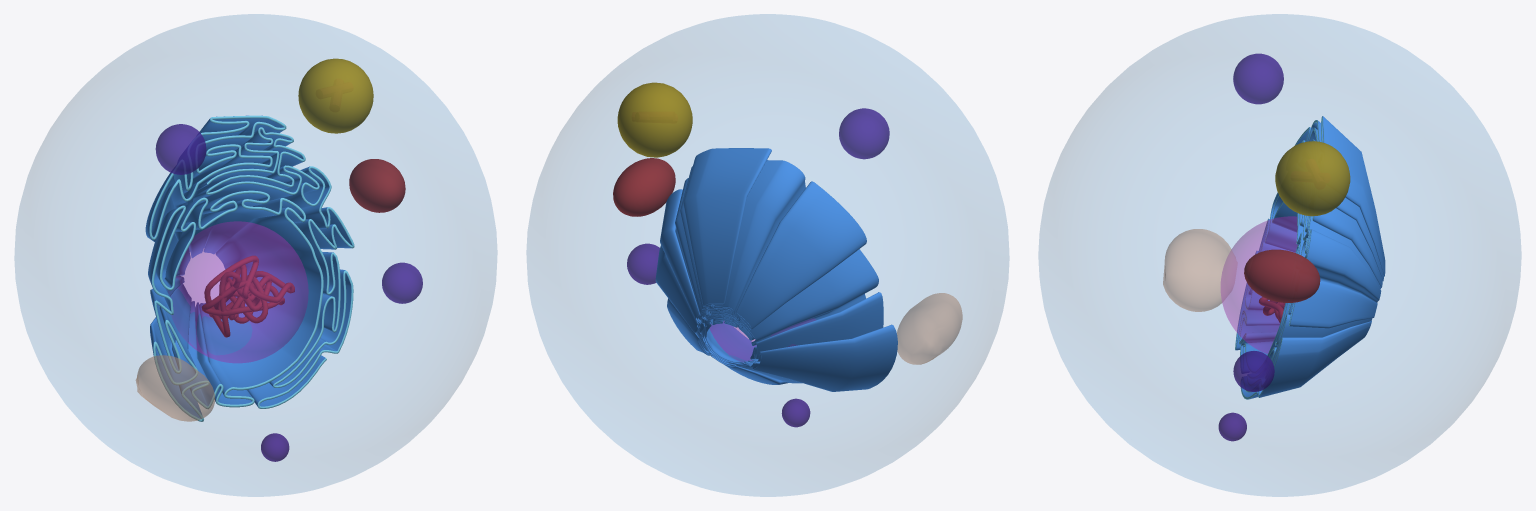
The model's file is Interfase-1.glb.
3 views of the same model, side by side, from view 1: azimuth 30°, elevation 25°; view 2: azimuth 150°, elevation 25°; view 3: azimuth 270°, elevation 25° (orthographic).
Visible parts, largest first — view 1: Esfera exterior, BézierCurve.007, Esfera interior, Sphere.003, Sphere.004, Sphere.005, espaguetti.001, Sphere, Sphere.006, Sphere.007, espaguetti.000, Sphere.008; view 2: Esfera exterior, BézierCurve.007, Sphere.003, Sphere.004, Sphere.005, Sphere, Sphere.006, Esfera interior, Sphere.007, Sphere.008; view 3: Esfera exterior, BézierCurve.007, Esfera interior, Sphere.005, Sphere.003, Sphere.004, Sphere, Sphere.006, Sphere.007, Sphere.008.
Boxes of the visible parts, bbox=[...] form: Esfera exterior: bbox=[14, 14, 497, 496]; BézierCurve.007: bbox=[145, 115, 354, 421]; Esfera interior: bbox=[168, 221, 308, 362]; Sphere.003: bbox=[298, 58, 373, 133]; Sphere.004: bbox=[299, 59, 372, 132]; Sphere.005: bbox=[135, 355, 215, 421]; espaguetti.001: bbox=[202, 255, 294, 337]; Sphere: bbox=[349, 159, 405, 212]; Sphere.006: bbox=[155, 124, 206, 174]; Sphere.007: bbox=[382, 262, 422, 303]; espaguetti.000: bbox=[218, 265, 271, 323]; Sphere.008: bbox=[261, 433, 289, 461]; Esfera exterior: bbox=[526, 14, 1009, 496]; BézierCurve.007: bbox=[655, 148, 897, 391]; Sphere.003: bbox=[617, 82, 692, 157]; Sphere.004: bbox=[618, 83, 691, 156]; Sphere.005: bbox=[897, 293, 962, 364]; Sphere: bbox=[613, 158, 675, 216]; Sphere.006: bbox=[839, 108, 889, 159]; Esfera interior: bbox=[709, 319, 815, 361]; Sphere.007: bbox=[627, 243, 659, 284]; Sphere.008: bbox=[781, 398, 810, 427]; Esfera exterior: bbox=[1038, 14, 1521, 496]; BézierCurve.007: bbox=[1235, 116, 1385, 399]; Esfera interior: bbox=[1221, 216, 1297, 353]; Sphere.005: bbox=[1163, 229, 1236, 311]; Sphere.003: bbox=[1275, 141, 1350, 216]; Sphere.004: bbox=[1276, 141, 1349, 215]; Sphere: bbox=[1244, 249, 1320, 302]; Sphere.006: bbox=[1233, 53, 1283, 104]; Sphere.007: bbox=[1233, 351, 1274, 391]; Sphere.008: bbox=[1218, 412, 1246, 441].
Size of the model in its own units: 1.38 by 1.38 by 1.38.
